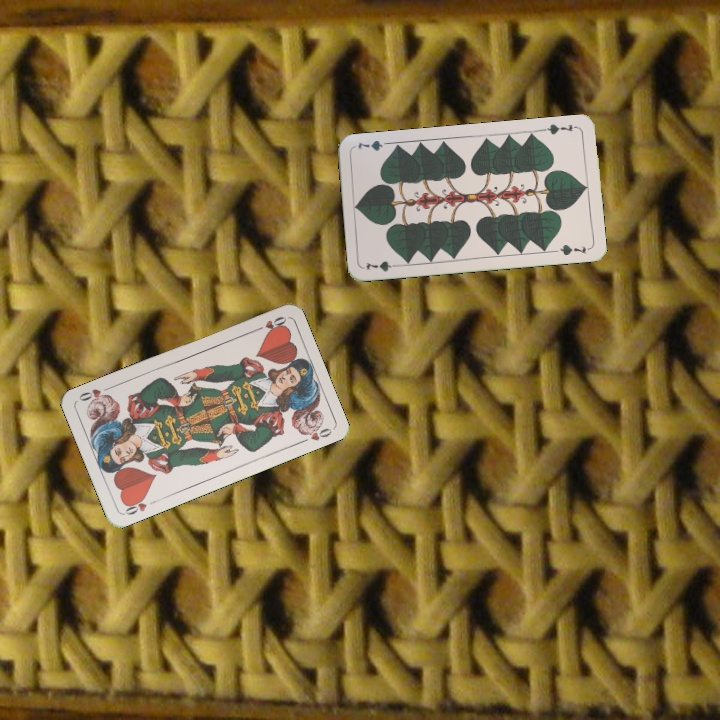G7: (362, 257, 403, 274), (539, 120, 580, 137)
HO: (120, 493, 159, 518), (250, 312, 289, 334)
